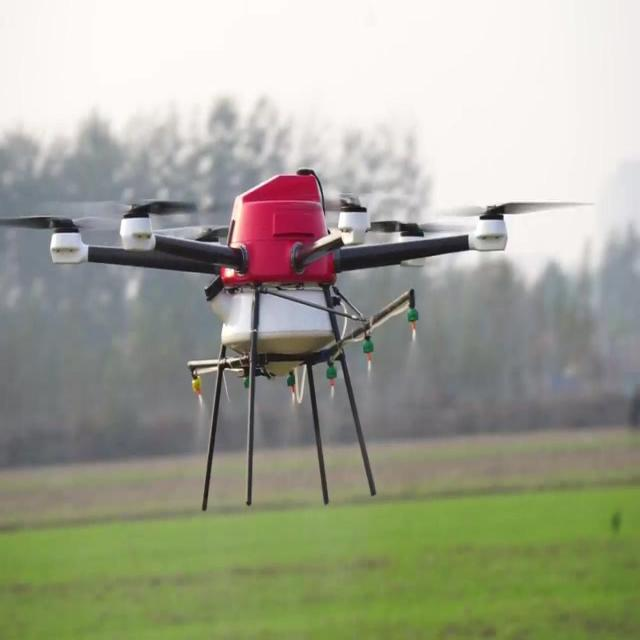drone: (0, 163, 592, 513)
